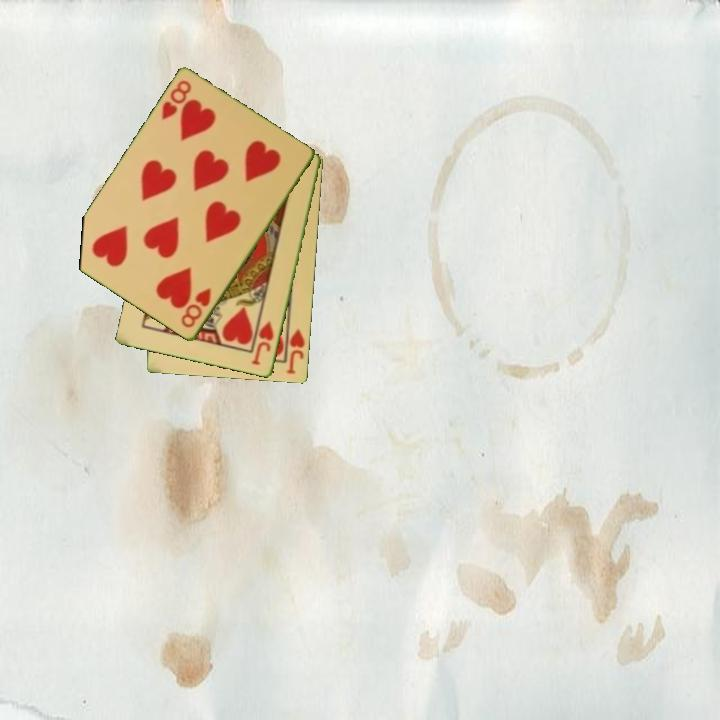8h: (177, 284, 214, 331), (158, 77, 194, 123)
Jh: (248, 318, 277, 368), (283, 326, 308, 377)
